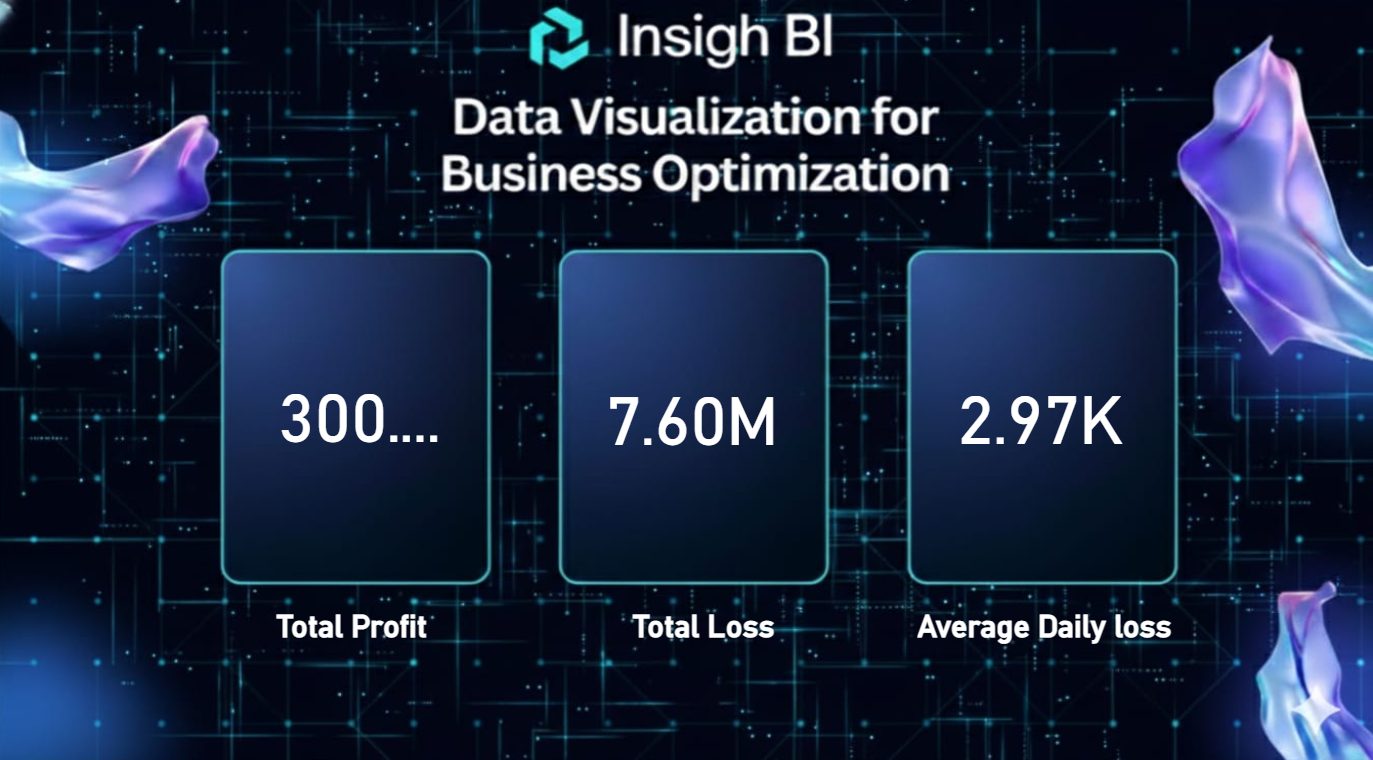

Layout of this report page (visuals, bound fields, positions):
{"tool":"powerbi","page":{"name":"Page 2","canvas":[1280,720],"ordinal":1},"visuals":[{"type":"textbox","box":[201.7,567.8,257.6,84.7],"z":0},{"type":"textbox","box":[549.2,567.8,216.9,84.7],"z":1000},{"type":"textbox","box":[850.8,567.8,272.9,84.7],"z":2000},{"type":"card","fields":{"Values":["measure table.total profit"]},"box":[216.9,271.2,239,232.2],"z":3000},{"type":"card","fields":{"Values":["measure table.total loss"]},"box":[527.1,296.6,239,186.4],"z":4000},{"type":"card","fields":{"Values":["measure table.Average loss per day"]},"box":[850.8,272.9,239,232.2],"z":5000}]}

Visuals, with their boxes in screenshot pixels (x1, y1, x2, y2), scaled from the page's 1280x720 canvas onto the 1373x760 screenshot:
textbox: <region>216, 599, 493, 689</region>
textbox: <region>589, 599, 822, 689</region>
textbox: <region>913, 599, 1205, 689</region>
card - measure table.total profit: <region>233, 286, 489, 531</region>
card - measure table.total loss: <region>565, 313, 822, 510</region>
card - measure table.Average loss per day: <region>913, 288, 1169, 533</region>
